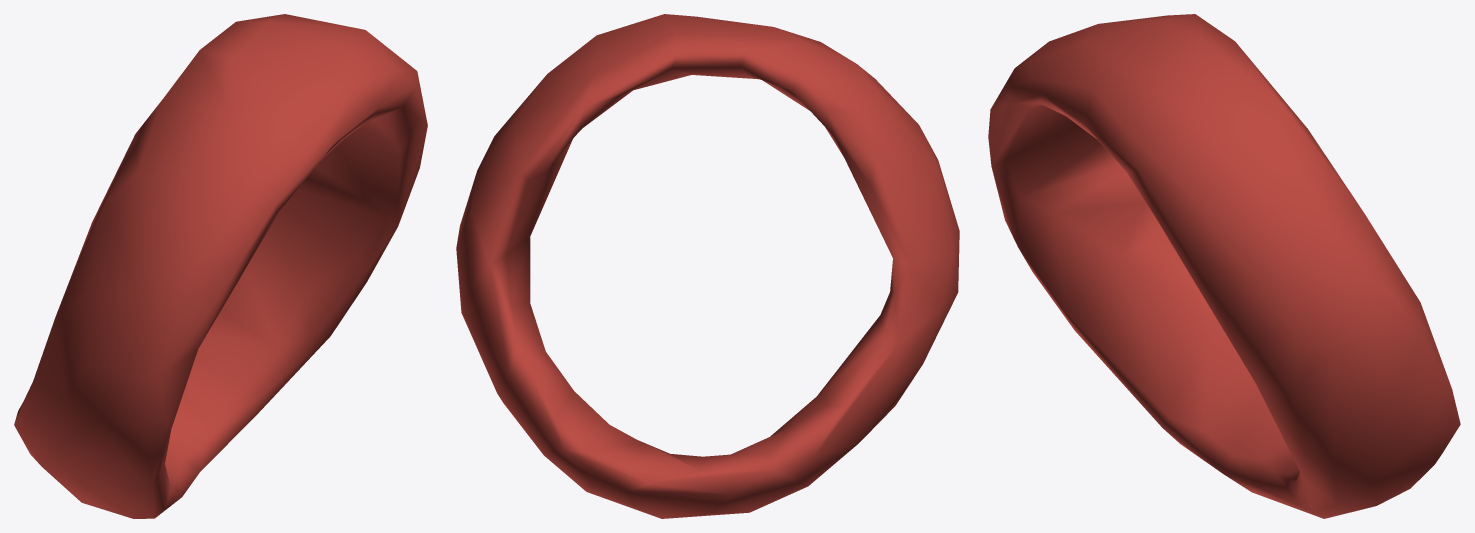
File: musculos-common-tendinous-ring-l.glb
The picture shows the model from 3 angles, left to right: view 1: azimuth 30°, elevation 25°; view 2: azimuth 150°, elevation 25°; view 3: azimuth 270°, elevation 25°; orthographic projection. The views are drawn at different scales.
Visible parts, largest first — view 1: Common tendinous ring.l; view 2: Common tendinous ring.l; view 3: Common tendinous ring.l.
Boxes of the visible parts, box(x1,y1,x2,y2) form: Common tendinous ring.l: box(14, 14, 427, 518); Common tendinous ring.l: box(456, 14, 959, 518); Common tendinous ring.l: box(988, 14, 1460, 518).
Bounding box in the file's own units: 0.00626 × 0.0067 × 0.00584.
